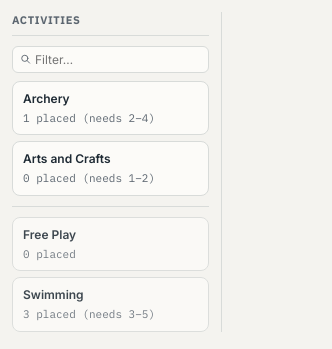
Test: ActivityPalette — Ledger + Filter › filter match is case-insensitive substring
Type "SWIM" into the field labelled "Filter…".
click(110, 59); type("SWIM")  # box 12,46 -> 209,72
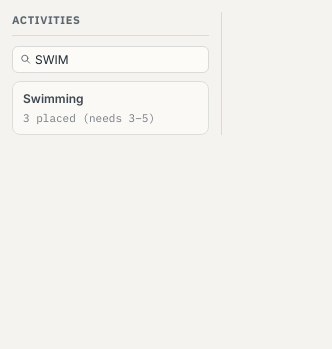
Expected: the text "Swimming" is shown, 23,90 -> 84,106
Result: the button "Archery" is gone
